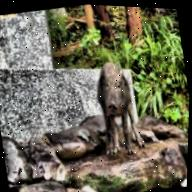boar: (88, 56, 148, 160)
